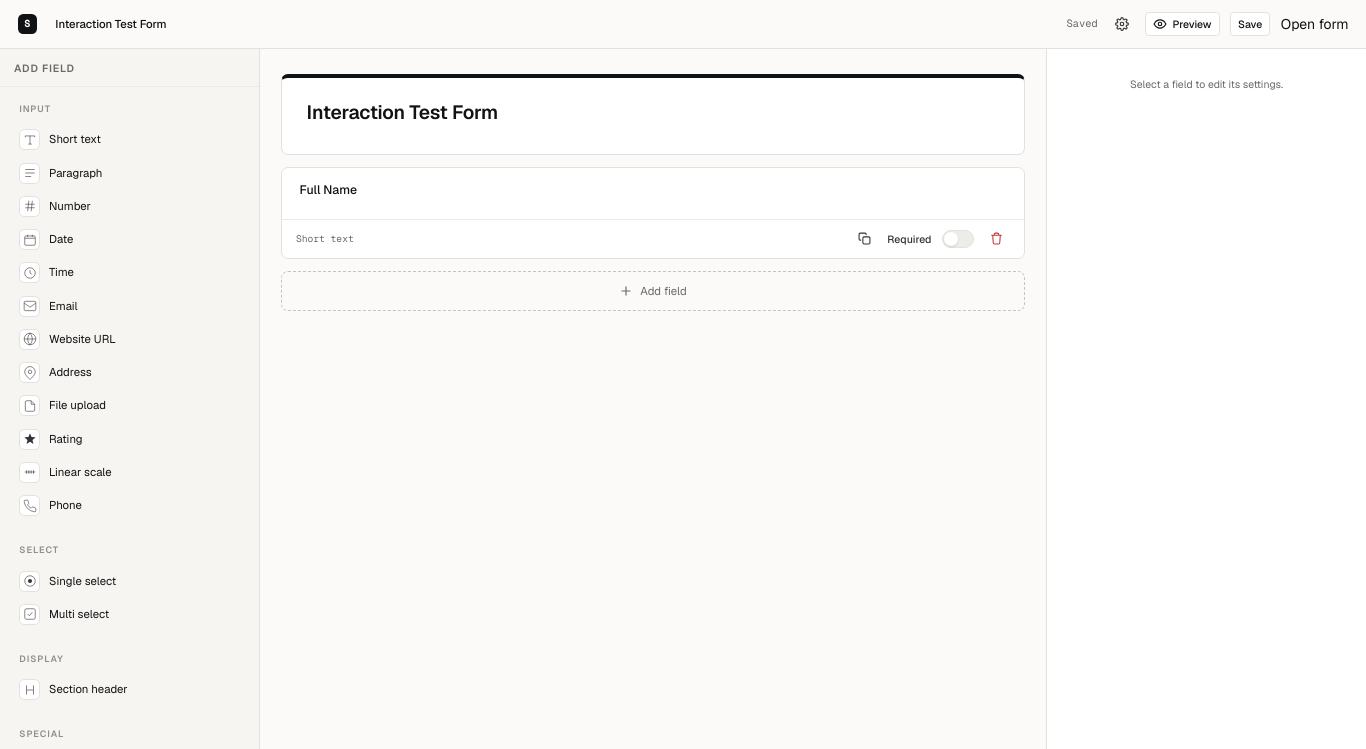
Test case: BuilderPage interactions › selecting a field › clicking a field card reveals the ConfigPanel with Field tab
// Click on the field card (the first occurrence that is inside a button-like wrapper)
Click the text "Full Name". click: (328, 191)
box: x1=300 y1=182 x2=357 y2=199
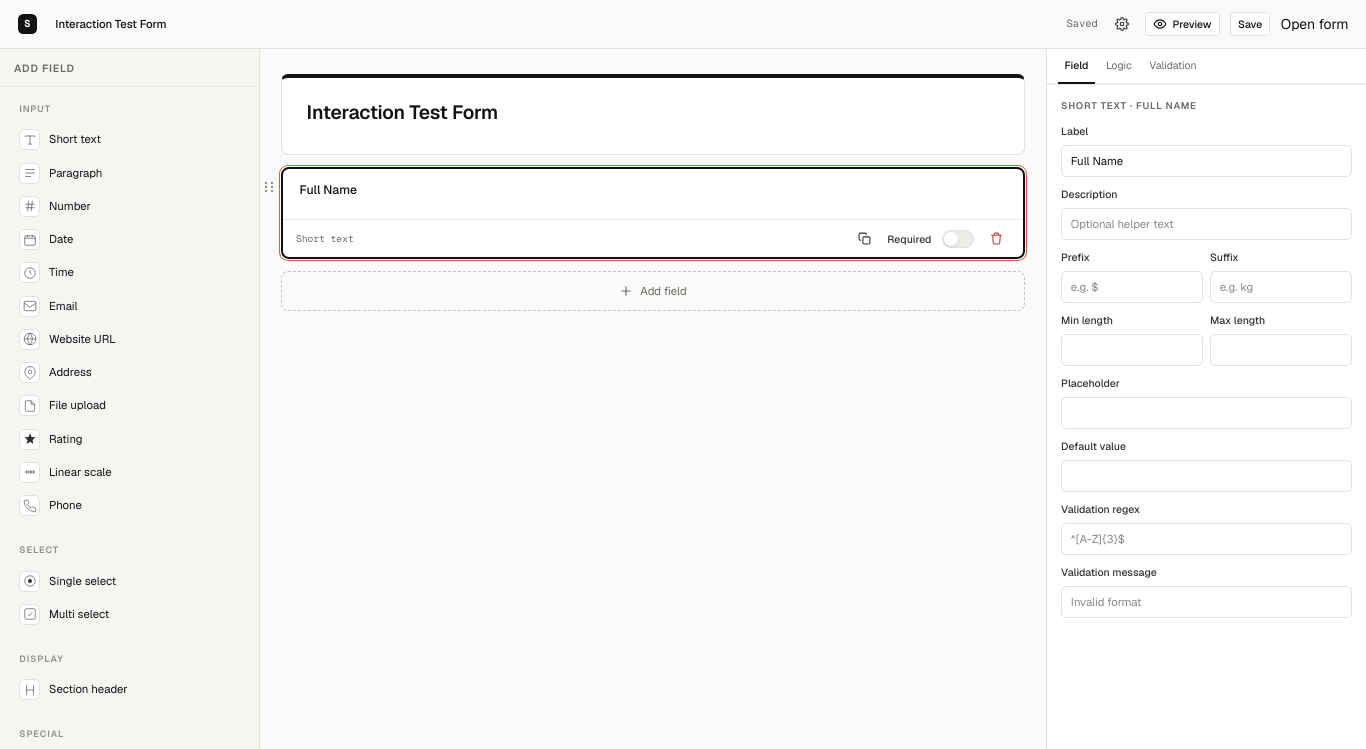
Expected: the text "Select a field to edit" is gone
